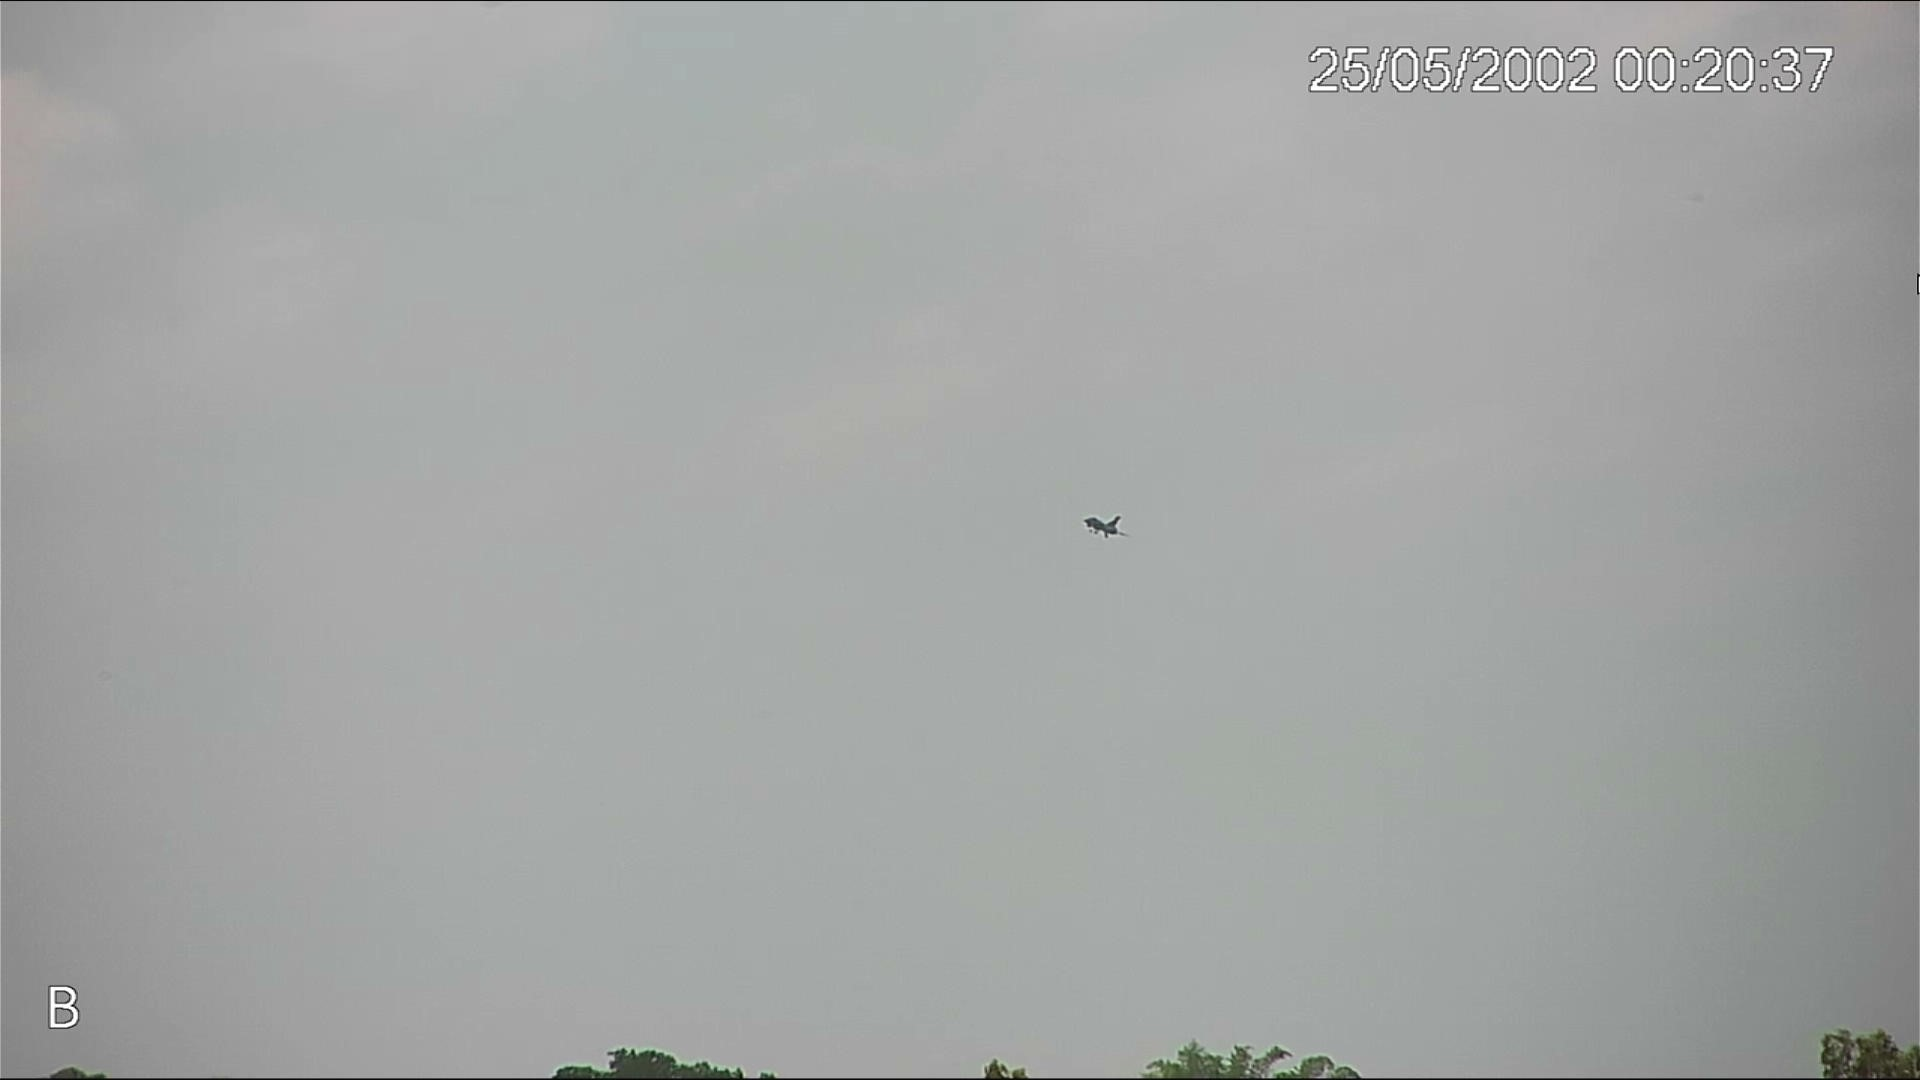SU_30: (1080, 512, 1124, 543)
